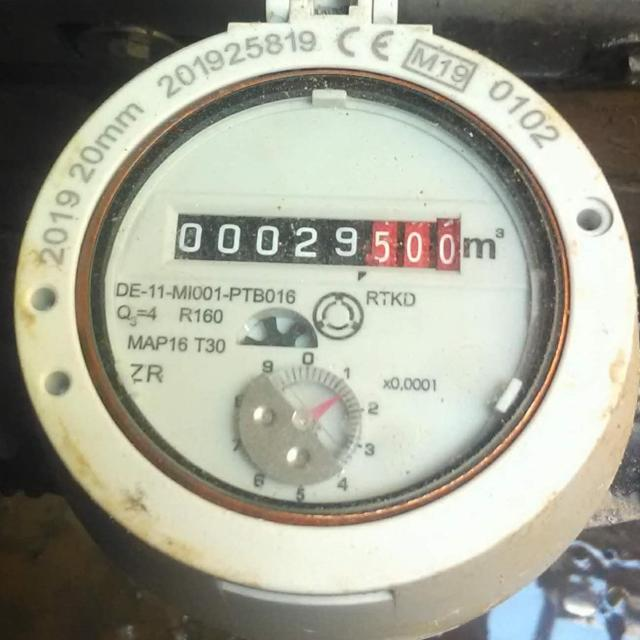gaz_meter: (106, 92, 536, 508)
indication: (174, 209, 460, 272)
